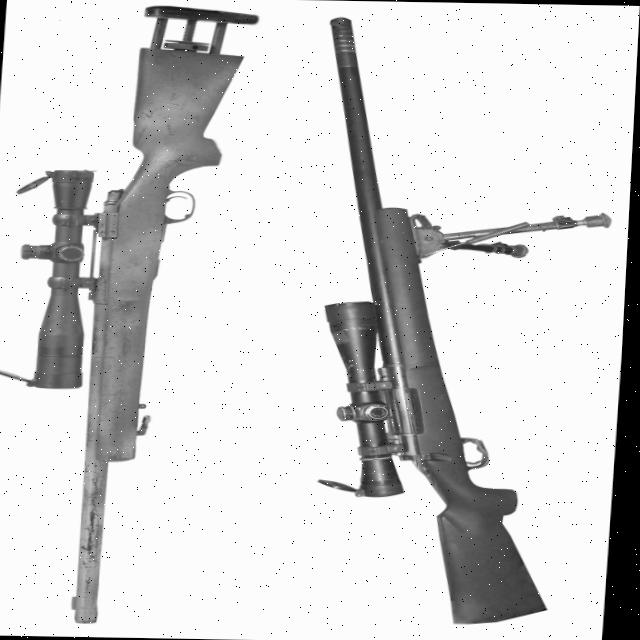firearm: (292, 17, 623, 628), (0, 2, 260, 626)
